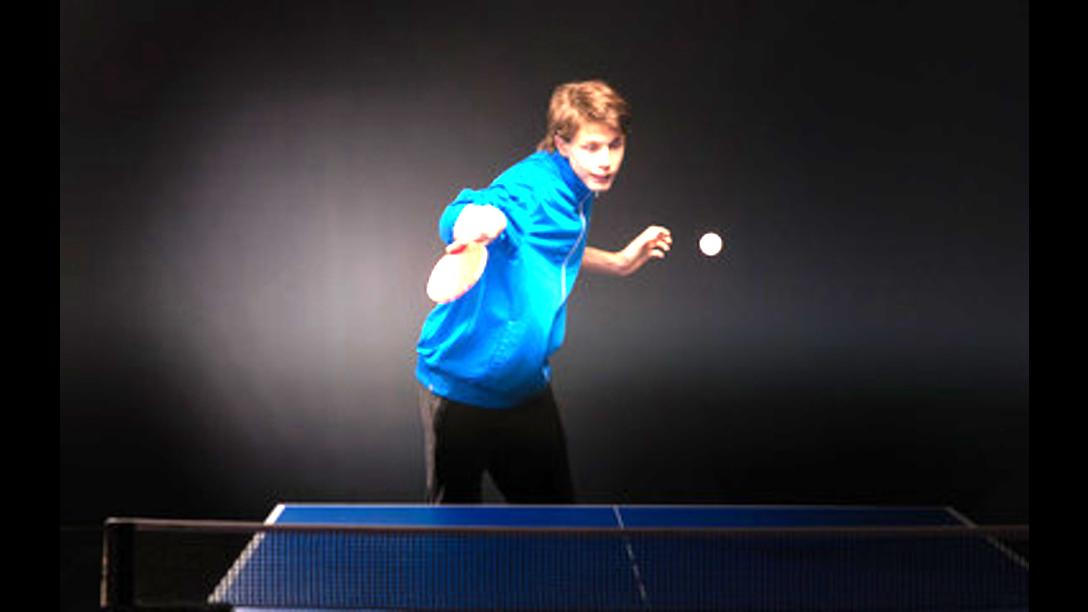Table-Tennis-Ball: (701, 234, 719, 254)
